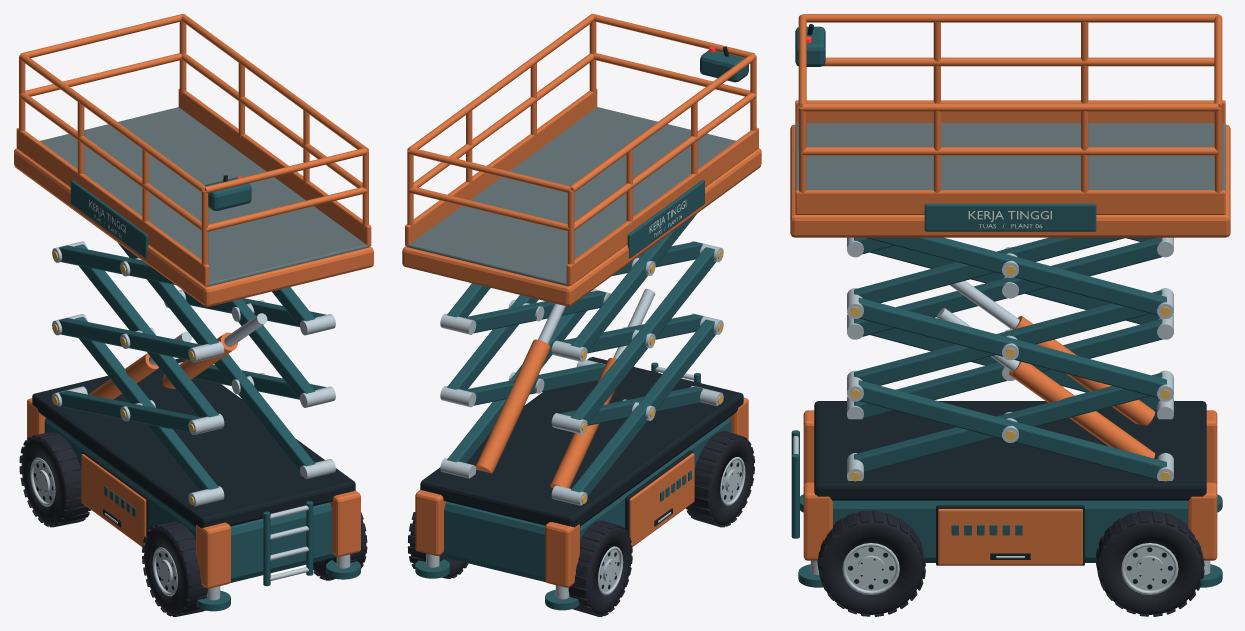
3 views of the same model, side by side, from view 1: azimuth 30°, elevation 25°; view 2: azimuth 150°, elevation 25°; view 3: azimuth 270°, elevation 25° (orthographic). The views are drawn at different scales.
Visible parts, largest first — view 1: Tuas Rough Terrain Scissor Platform; view 2: Tuas Rough Terrain Scissor Platform; view 3: Tuas Rough Terrain Scissor Platform.
Part boxes in pixels (x1,y1,x2,y2): Tuas Rough Terrain Scissor Platform: (14, 14, 373, 616); Tuas Rough Terrain Scissor Platform: (402, 14, 761, 616); Tuas Rough Terrain Scissor Platform: (790, 14, 1230, 616).
Size of the model in its own units: 2.13 by 5.03 by 3.92.
